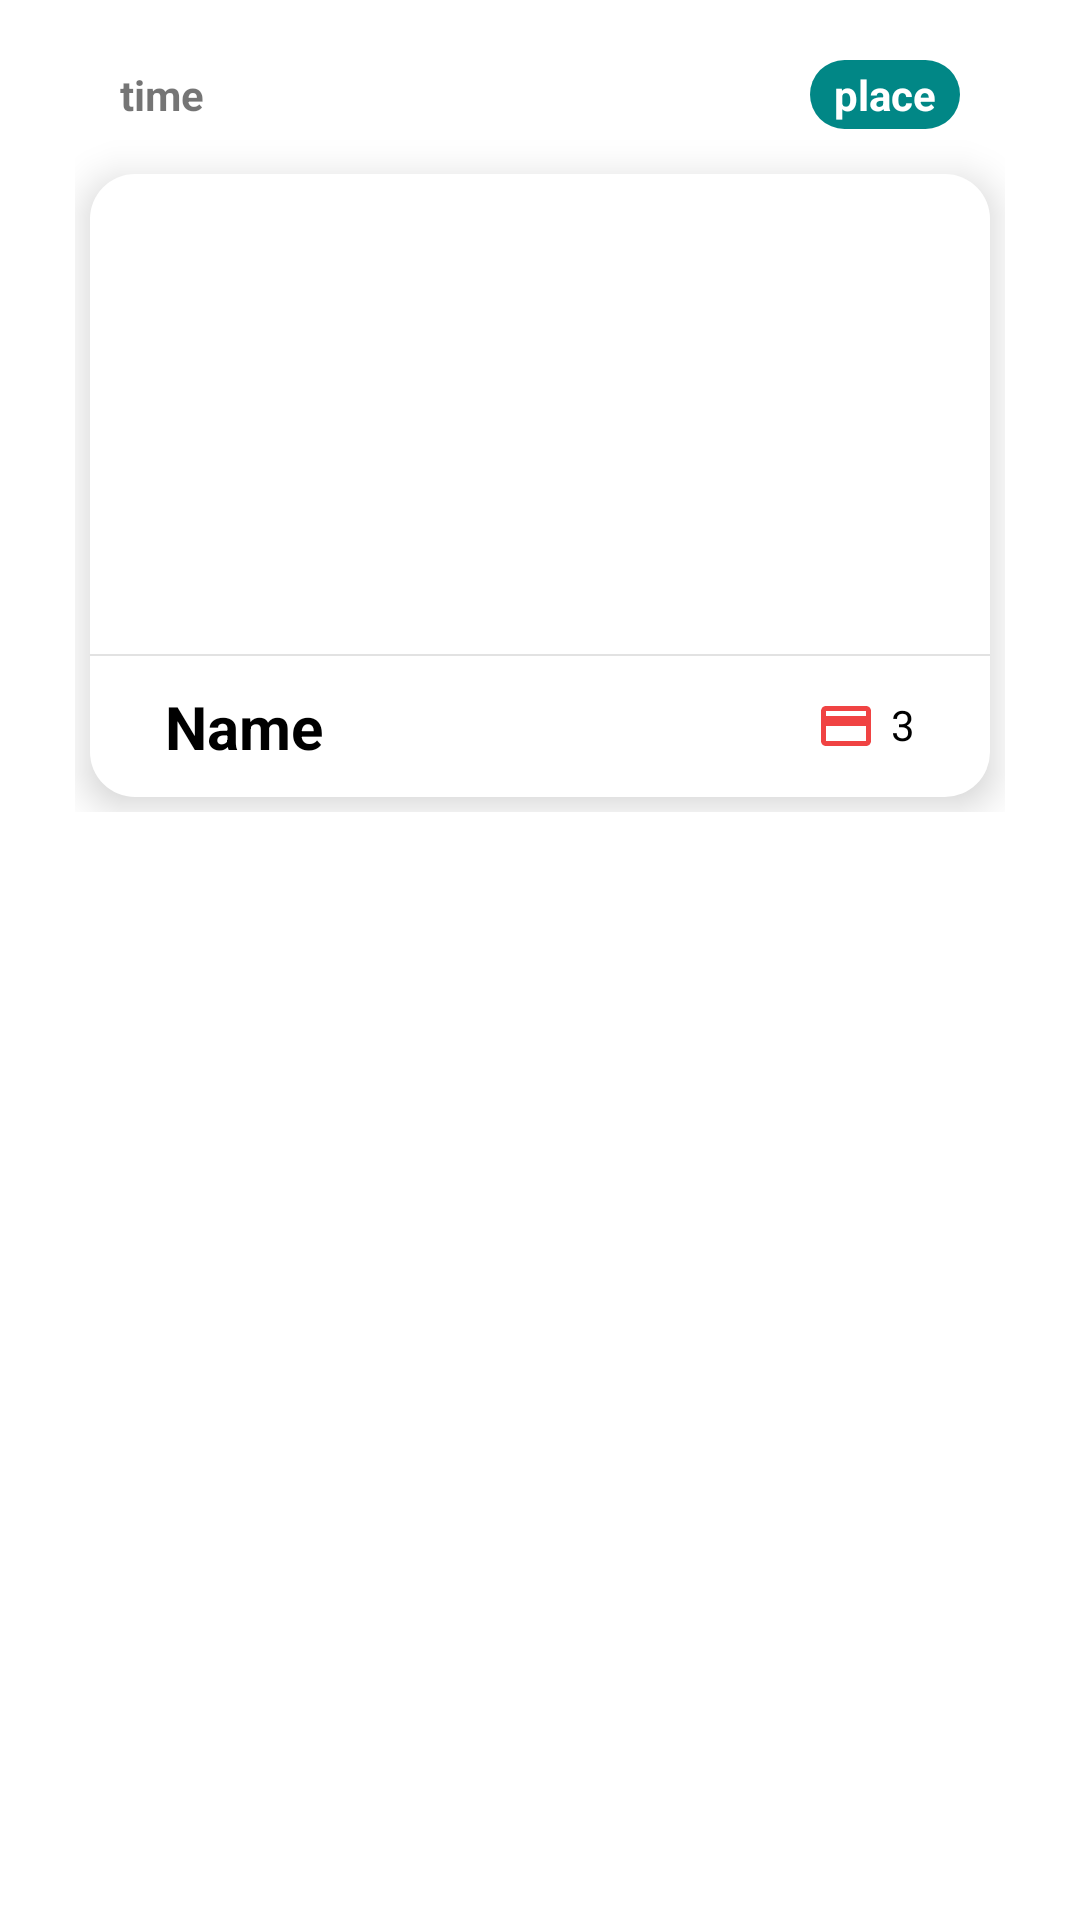

Where to tap for icons on this 1080*1920 app screen, as point (x, y):
card: point (846, 726)
